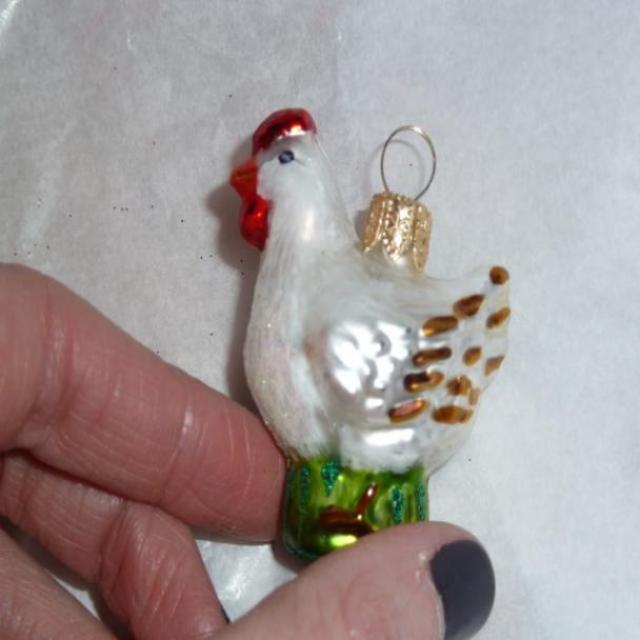Chicken: (228, 103, 506, 562)
